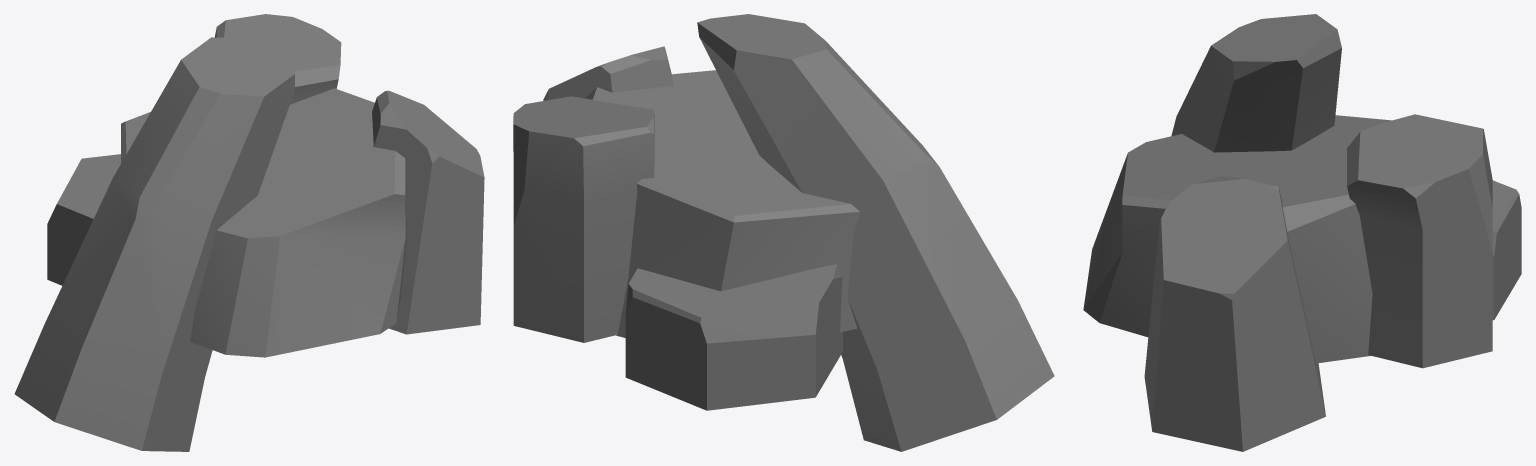
File: rock_formation11.fbx
3 renders of one model, left to right at view 1: azimuth 30°, elevation 25°; view 2: azimuth 150°, elevation 25°; view 3: azimuth 270°, elevation 25°, orthographic. The views are drawn at different scales.
Visible parts, largest first — view 1: rock; view 2: rock; view 3: rock.
Boxes of the visible parts, x1,y1,x2,y2 form: rock: (14, 14, 484, 451); rock: (513, 14, 1054, 451); rock: (1083, 14, 1521, 451).
Size of the model in its own units: 4324 by 3242 by 3349.
